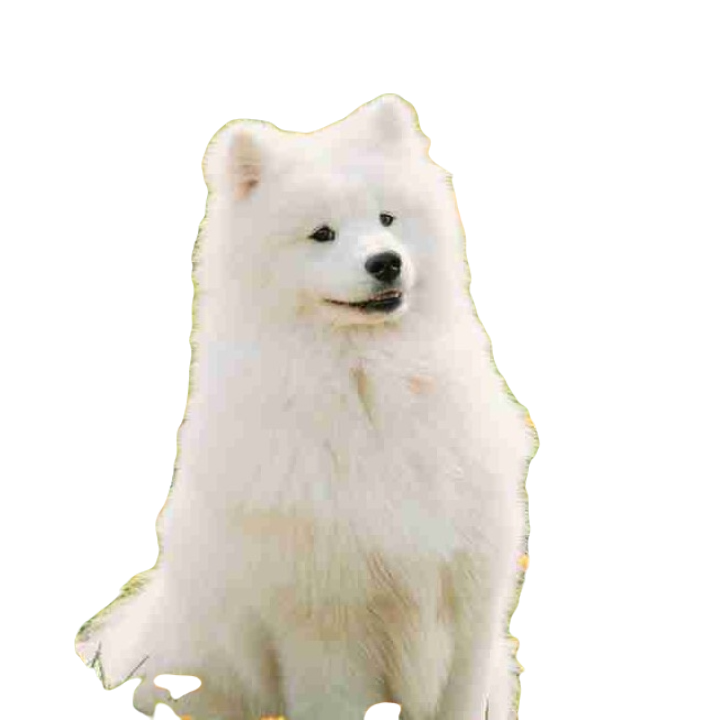Dog: (73, 91, 547, 719)
